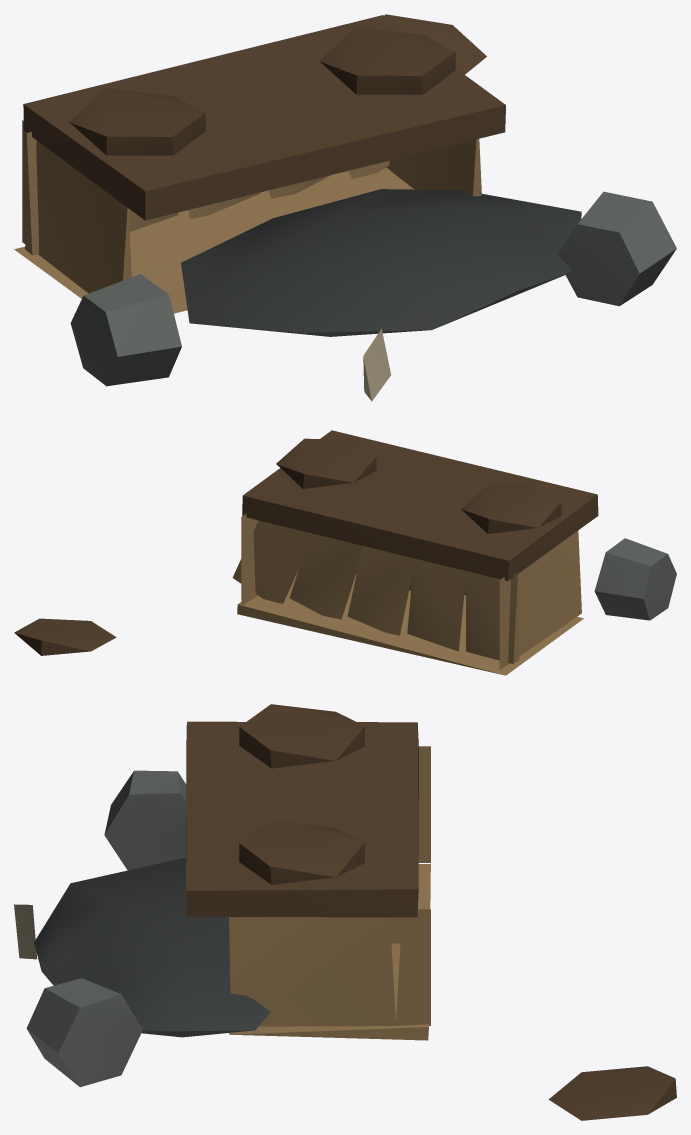
Rendered from tin_cart_b_lod2.glb.
The picture shows the model from 3 angles, top to bottom: view 1: azimuth 30°, elevation 25°; view 2: azimuth 150°, elevation 25°; view 3: azimuth 270°, elevation 25°; orthographic projection. The views are drawn at different scales.
Parts seen in each view (by area): view 1: Surface.001; view 2: Surface.001; view 3: Surface.001.
Boxes of the visible parts, x1,y1,x2,y2 form: Surface.001: [14, 14, 676, 401]; Surface.001: [14, 430, 676, 675]; Surface.001: [14, 704, 676, 1120].
Size of the model in its own units: 3.7 by 1.16 by 3.61.
